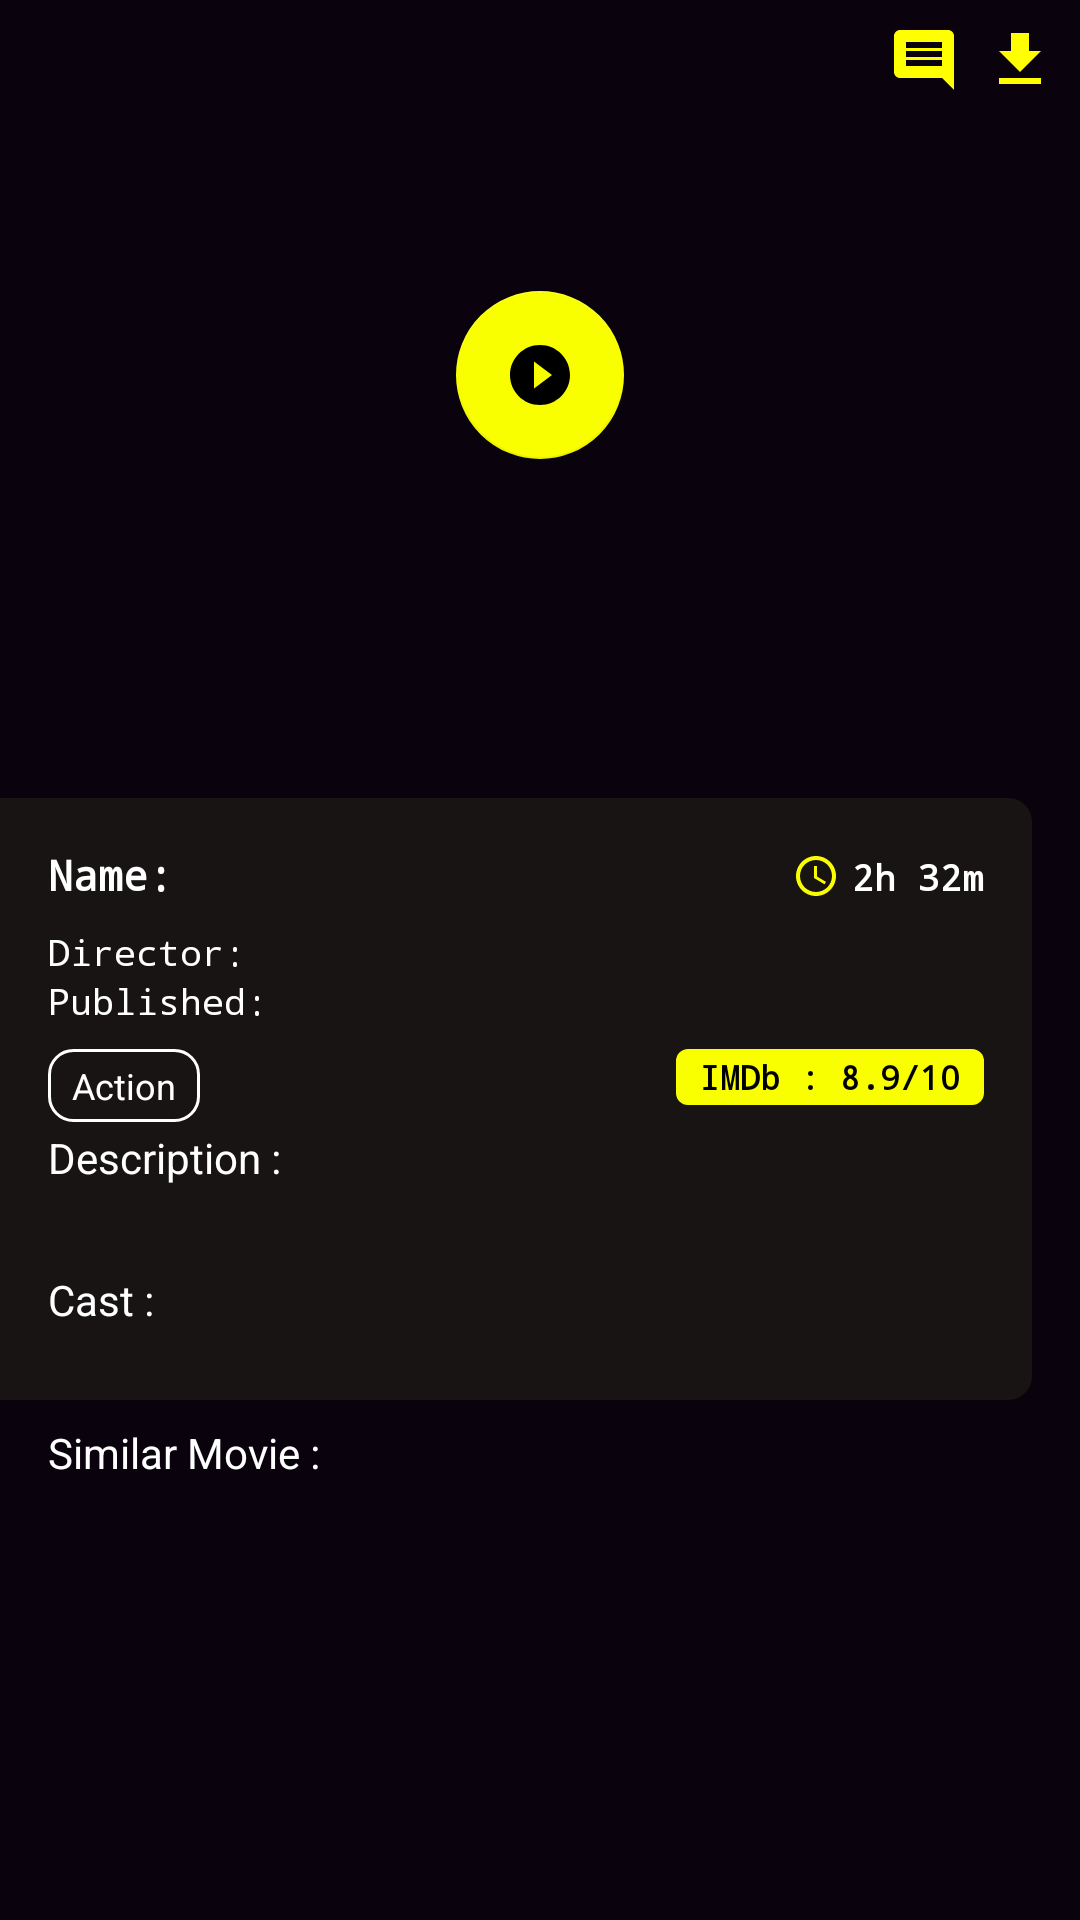

Icon click points for this 1080 × 1920 phone screenshot, format [x,y]:
access time: [816,876]
comment: [924,60]
get app: [1020,58]
play circle: [540,375]
